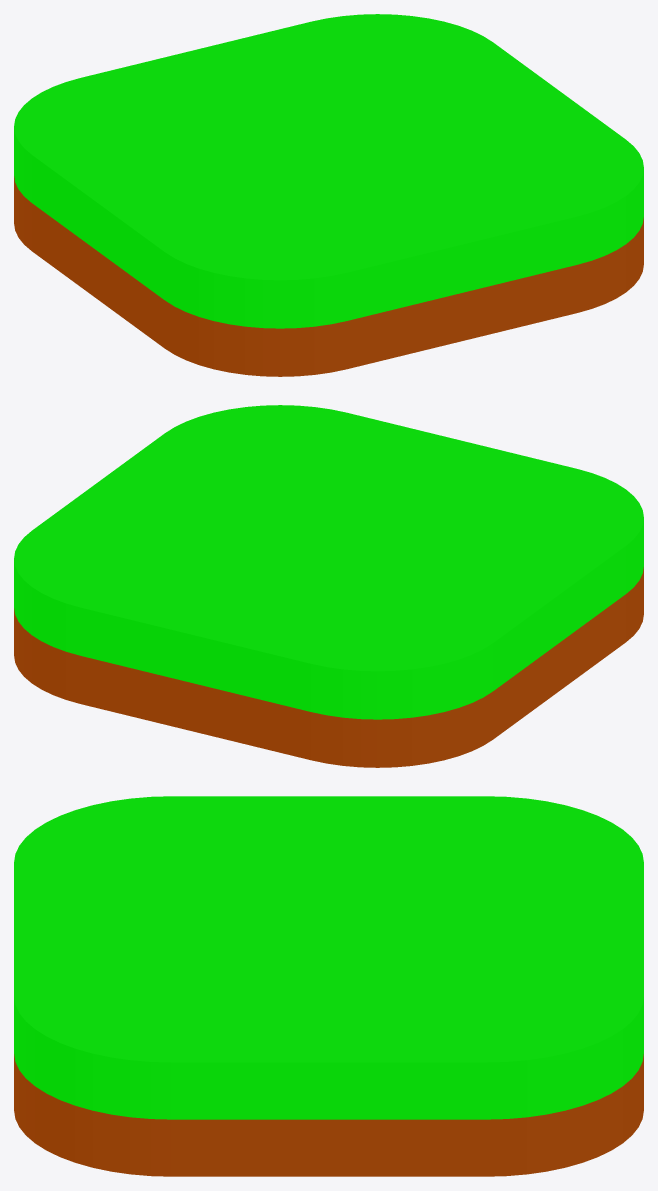
File: Ground.fbx
3 renders of one model, top to bottom at view 1: azimuth 30°, elevation 25°; view 2: azimuth 150°, elevation 25°; view 3: azimuth 270°, elevation 25°, orthographic. The views are drawn at different scales.
Parts seen in each view (by area): view 1: Ground; view 2: Ground; view 3: Ground.
Part boxes in pixels (x1,y1,x2,y2): Ground: (14, 14, 643, 376); Ground: (14, 405, 643, 767); Ground: (14, 796, 643, 1176).
Bounding box in the file's own units: 20 × 20 × 4.
